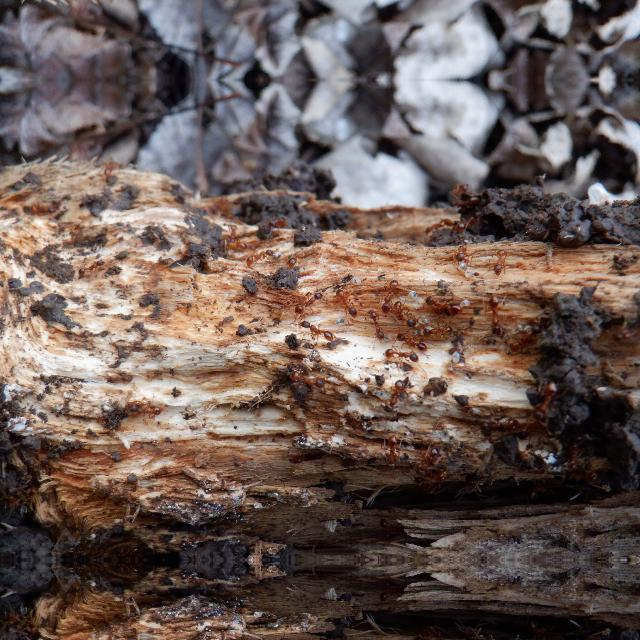Myrmica: (524, 374, 566, 424), (504, 319, 546, 353), (446, 205, 492, 235), (558, 430, 590, 472), (480, 292, 510, 336), (283, 437, 327, 467), (281, 240, 327, 268), (379, 374, 411, 414), (377, 430, 408, 470), (408, 440, 444, 474), (418, 464, 456, 496), (286, 285, 326, 315), (411, 374, 451, 404), (420, 290, 468, 314), (294, 317, 338, 343), (475, 411, 521, 435), (560, 458, 602, 484), (447, 244, 479, 278), (374, 275, 404, 311), (418, 210, 454, 240), (24, 193, 62, 221), (284, 364, 328, 388), (331, 286, 363, 318), (385, 297, 419, 327), (122, 396, 168, 418), (240, 244, 280, 268), (362, 306, 388, 342), (339, 408, 375, 434), (393, 328, 431, 352), (370, 505, 400, 535), (370, 585, 400, 615), (486, 243, 514, 275), (446, 189, 486, 211), (381, 344, 424, 364), (262, 214, 292, 240), (422, 318, 458, 337), (78, 255, 108, 277), (418, 624, 454, 640), (98, 160, 120, 184), (218, 206, 244, 226), (442, 178, 470, 196), (219, 239, 247, 255), (208, 194, 230, 212), (224, 220, 238, 240)
